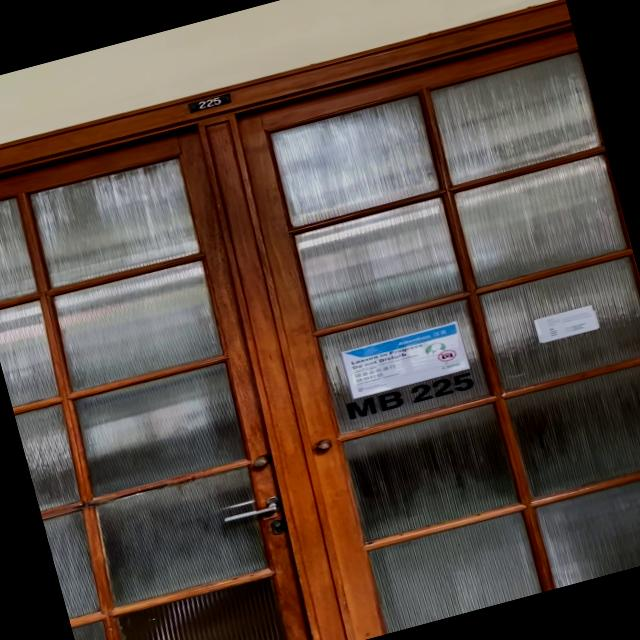room225: (182, 88, 234, 115)
room225Window: (342, 366, 482, 423)
